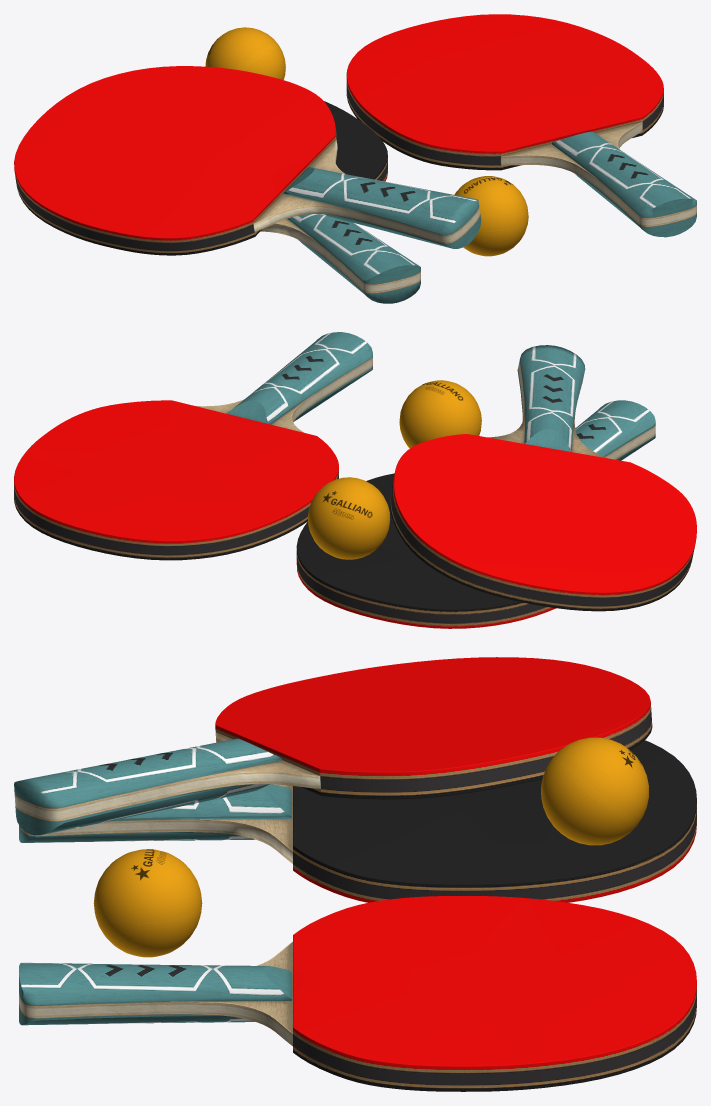
3 views of the same model, one above another, from view 1: azimuth 30°, elevation 25°; view 2: azimuth 150°, elevation 25°; view 3: azimuth 270°, elevation 25° (orthographic). The views are drawn at different scales.
Visible parts, largest first — view 1: SM_PingPongPaddle_Show, SM_PingPongPaddle, SM_PingPongBall; view 2: SM_PingPongPaddle_Show, SM_PingPongPaddle, SM_PingPongBall; view 3: SM_PingPongPaddle_Show, SM_PingPongPaddle, SM_PingPongBall.
Part boxes in pixels (bbox=[...]): SM_PingPongPaddle_Show: bbox=[14, 27, 481, 303]; SM_PingPongPaddle: bbox=[346, 14, 696, 237]; SM_PingPongBall: bbox=[454, 176, 528, 256]; SM_PingPongPaddle_Show: bbox=[296, 345, 696, 628]; SM_PingPongPaddle: bbox=[14, 332, 372, 560]; SM_PingPongBall: bbox=[399, 380, 481, 448]; SM_PingPongPaddle_Show: bbox=[14, 657, 696, 902]; SM_PingPongPaddle: bbox=[19, 896, 696, 1091]; SM_PingPongBall: bbox=[93, 849, 202, 957].
Size of the model in its own units: 0.3481 by 0.065 by 0.2519.
2 materials, 2 textured.
